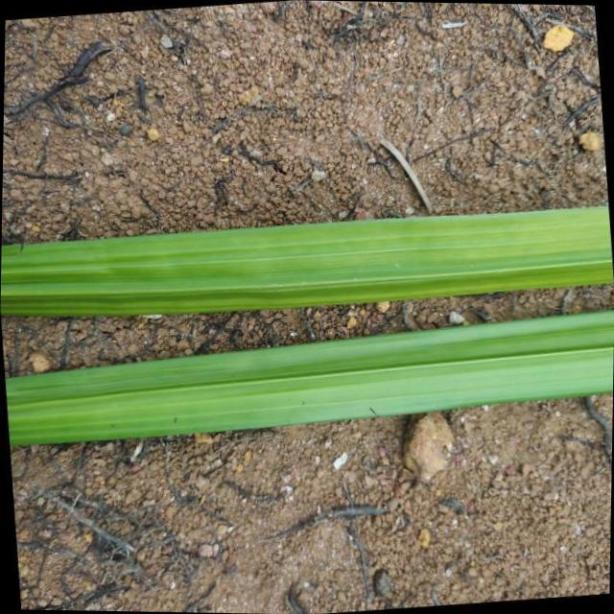nitrogen: (0, 313, 614, 448), (0, 209, 614, 315)
